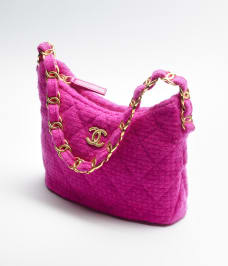channel: (29, 42, 205, 232), (81, 127, 113, 147), (45, 89, 68, 109), (42, 119, 67, 135), (49, 139, 72, 156), (46, 69, 65, 82)
